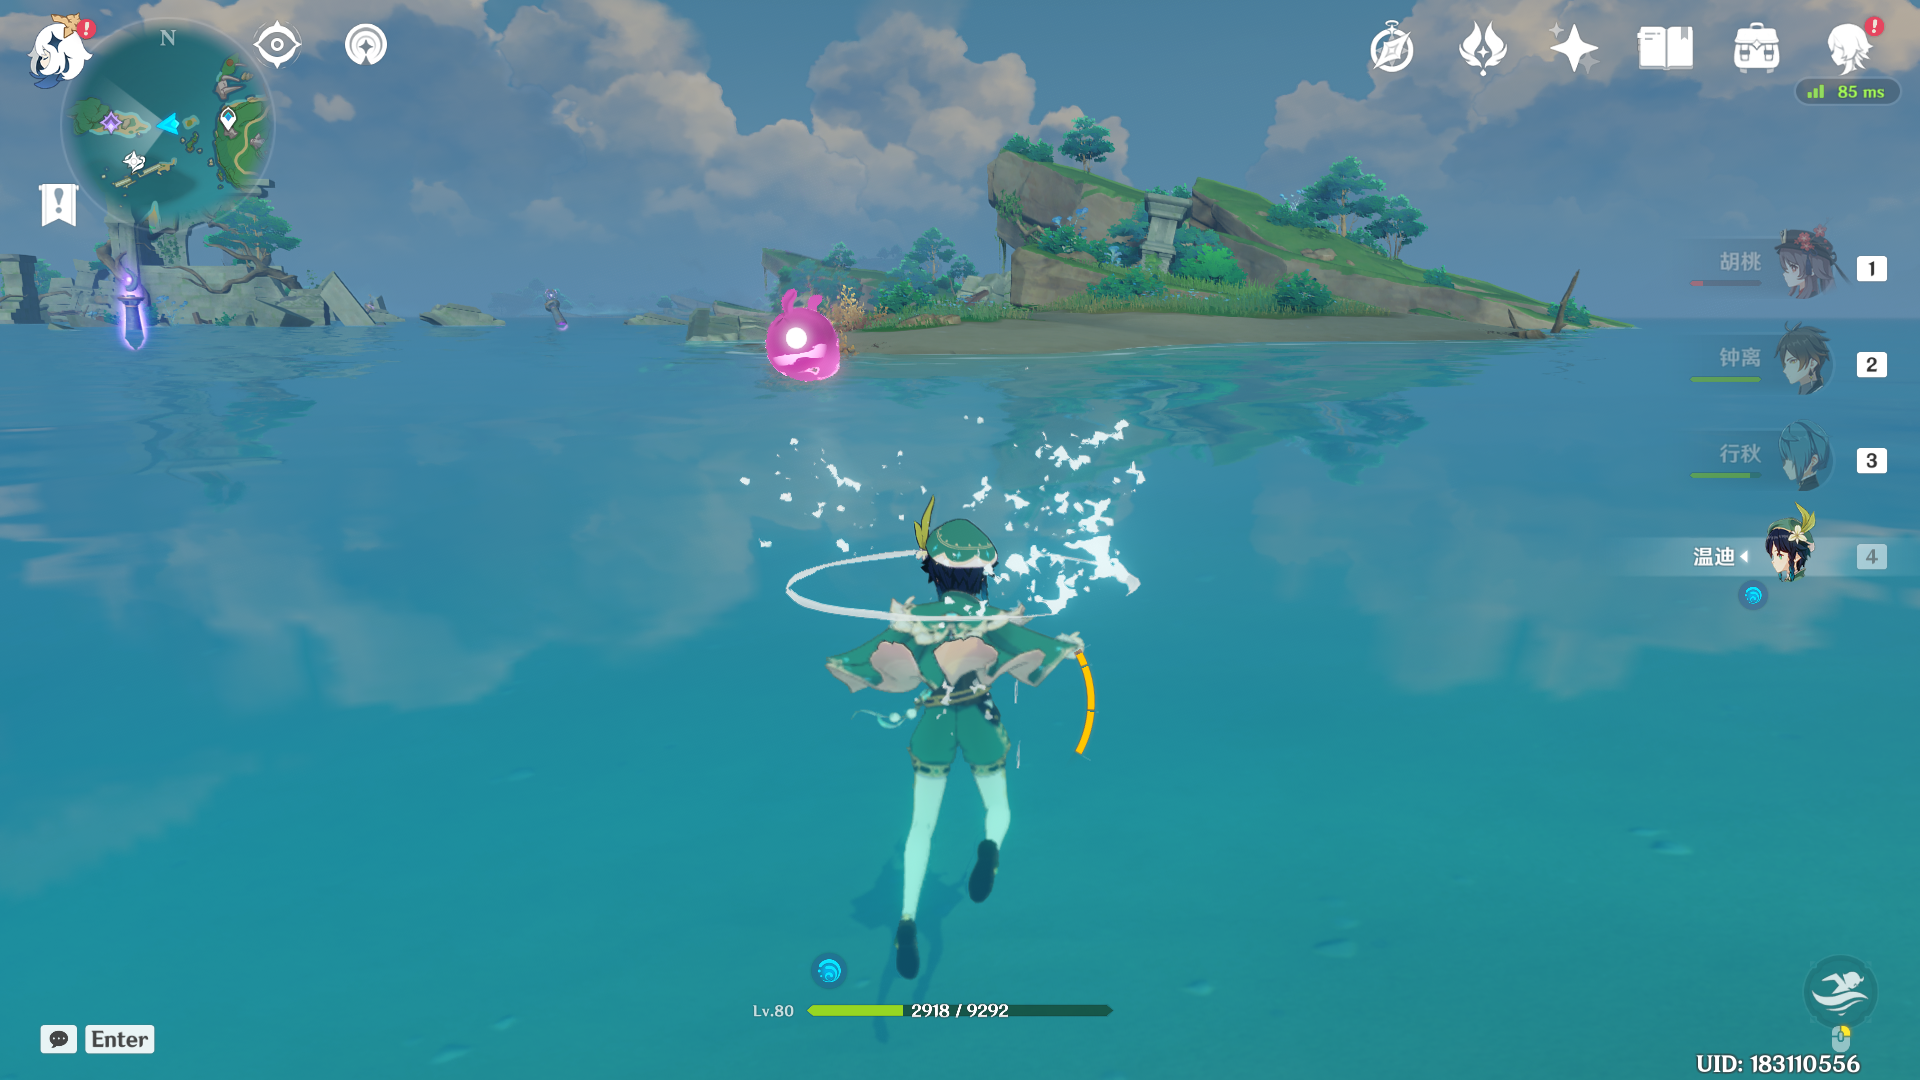character: (770, 444, 1095, 986)
